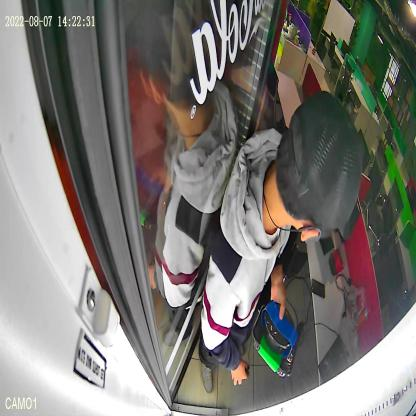green: (253, 305, 297, 379), (261, 300, 298, 360)
